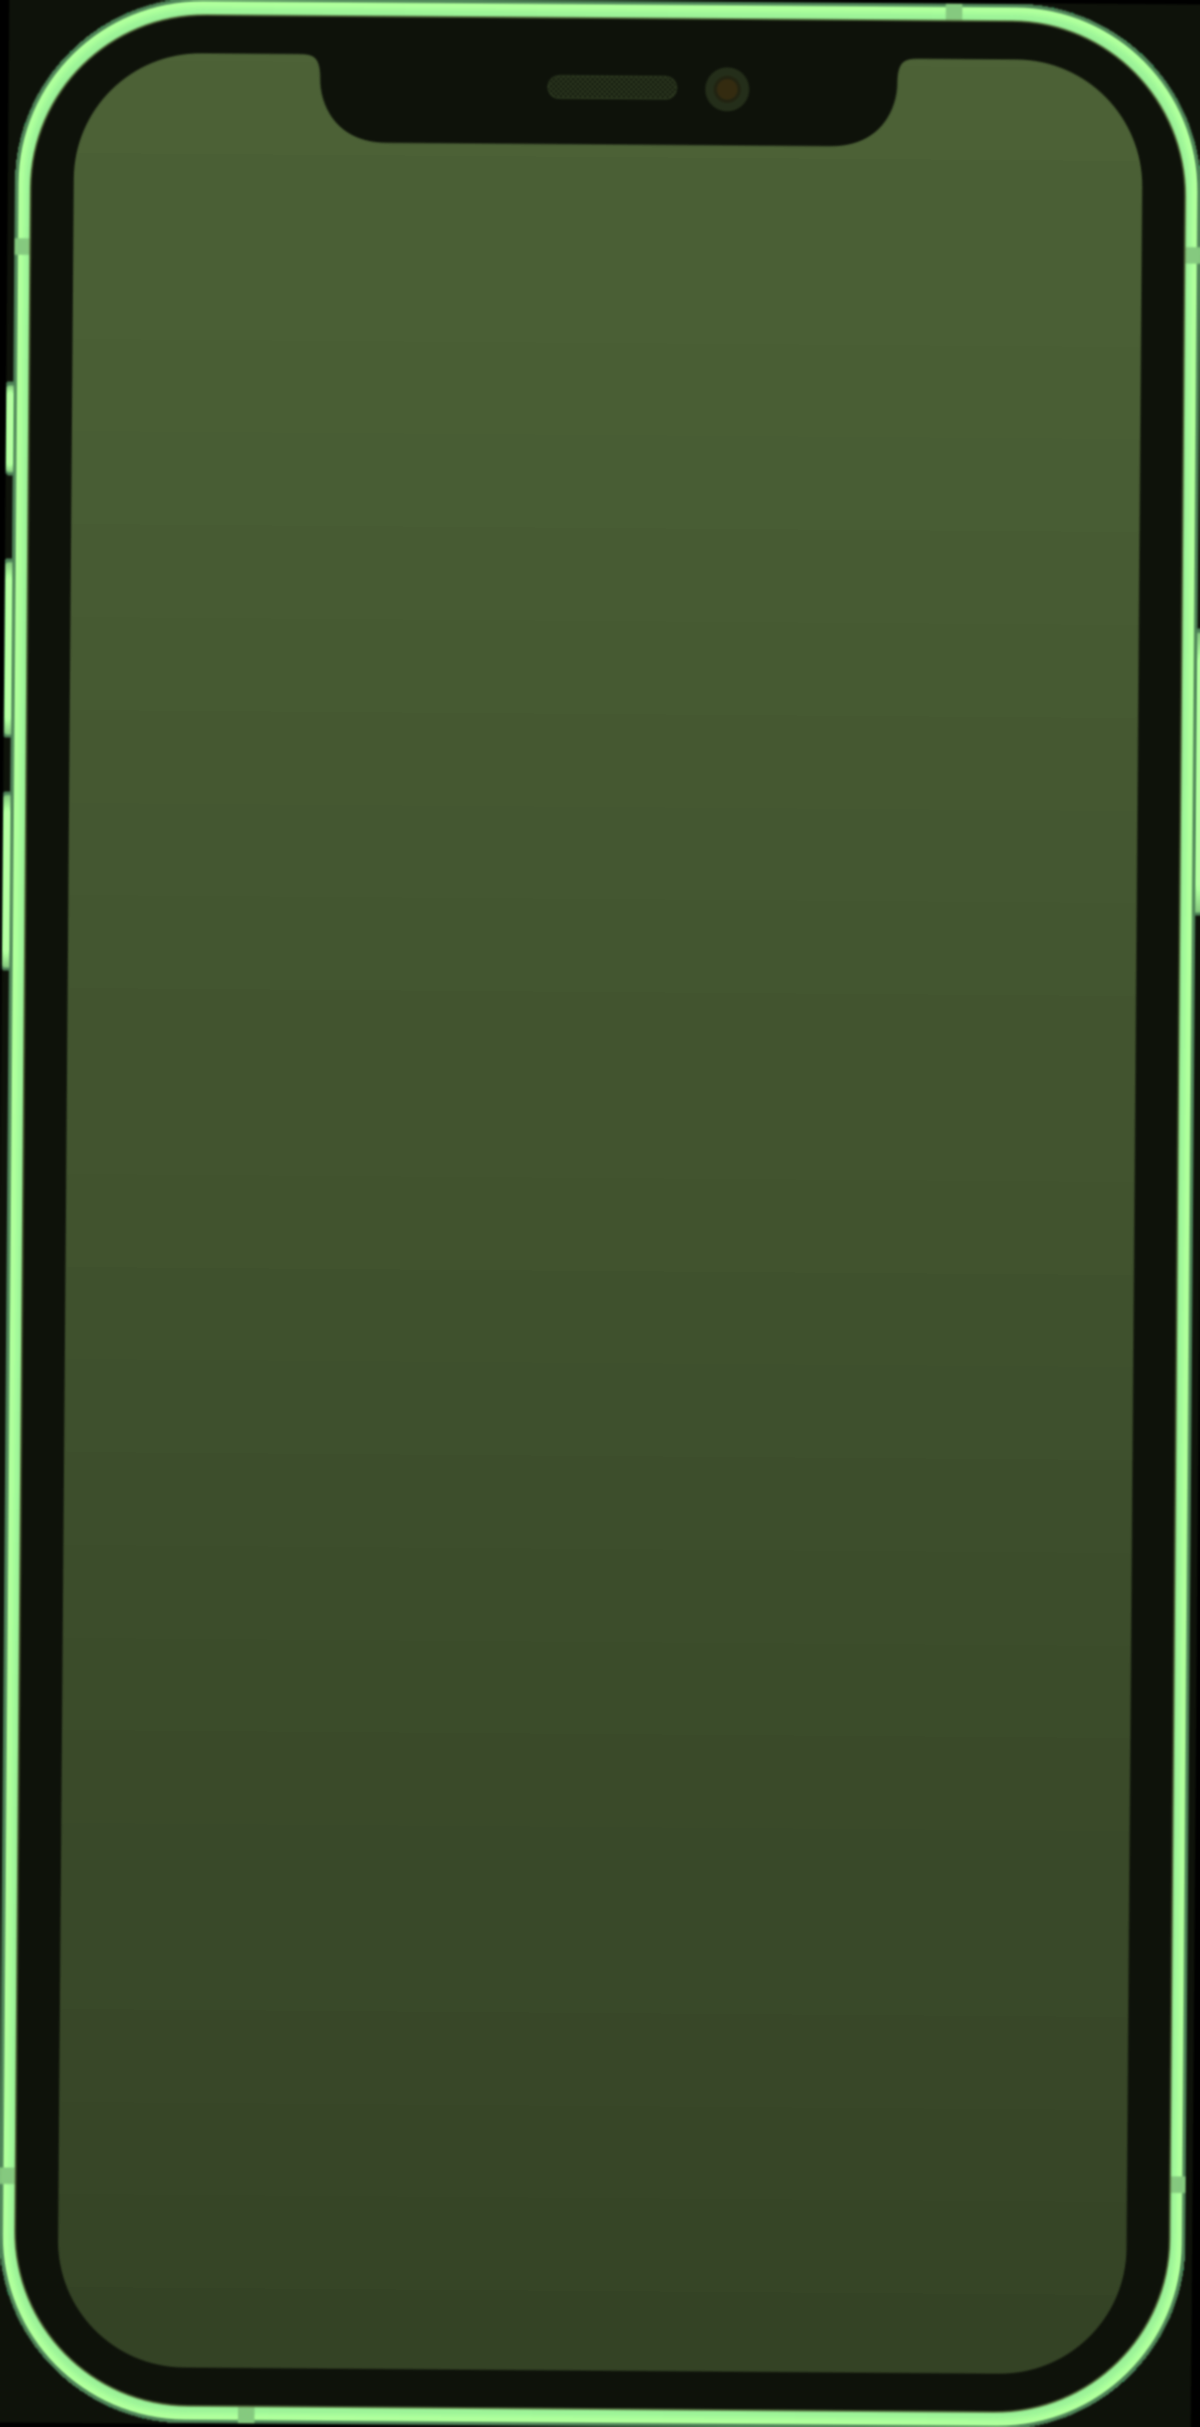iphone: (2, 3, 1200, 2427)
